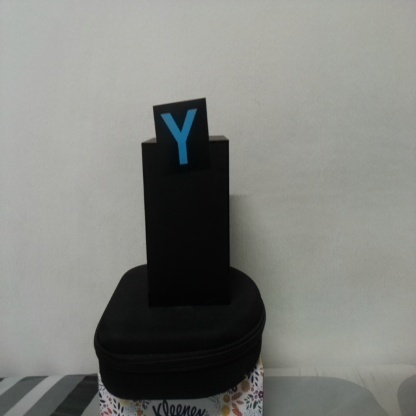id_14: (154, 104, 208, 172)
